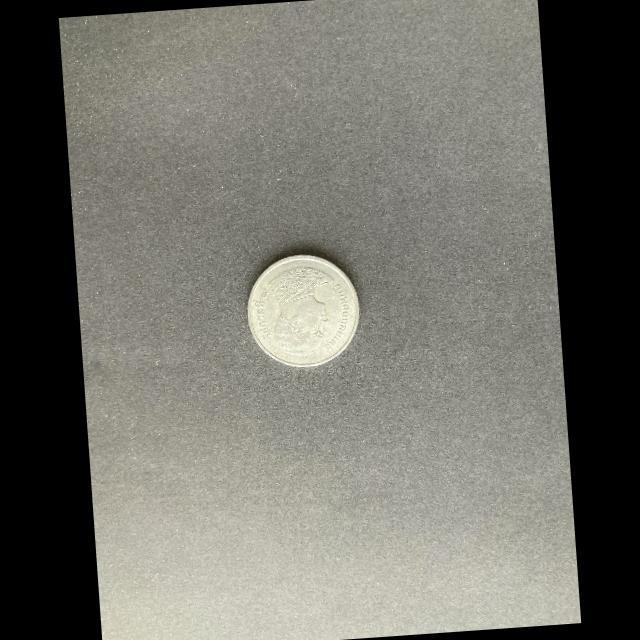1 Bath: (243, 250, 365, 373)
